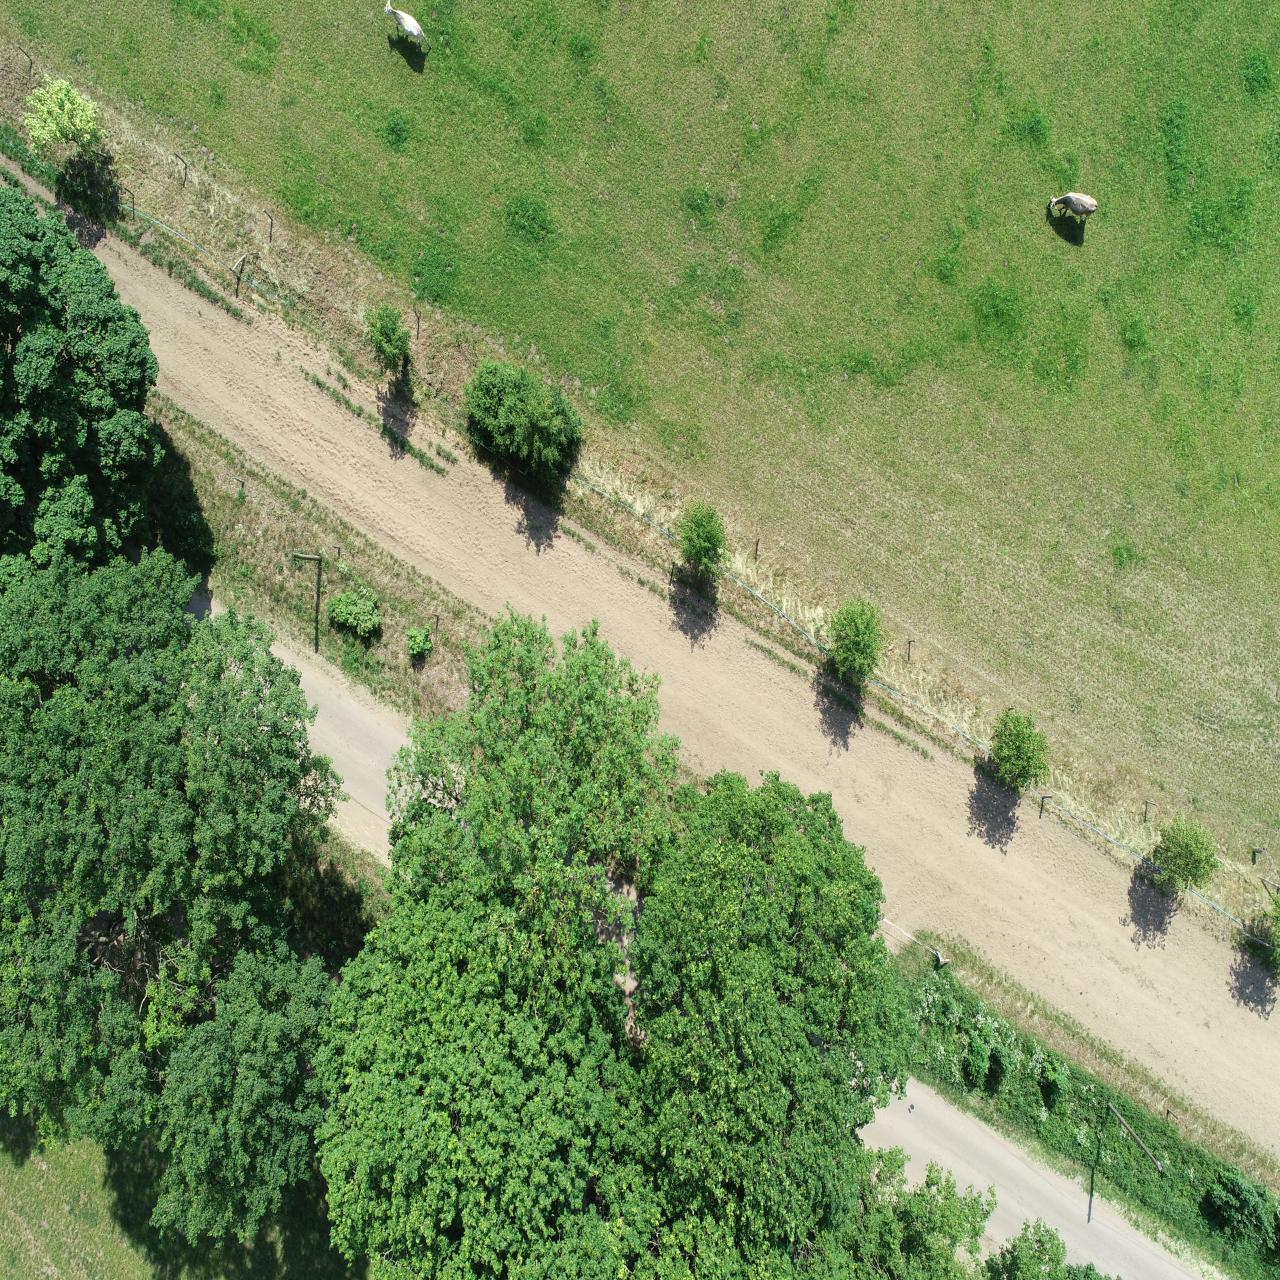cow: (381, 1, 433, 53), (1044, 191, 1101, 225)
